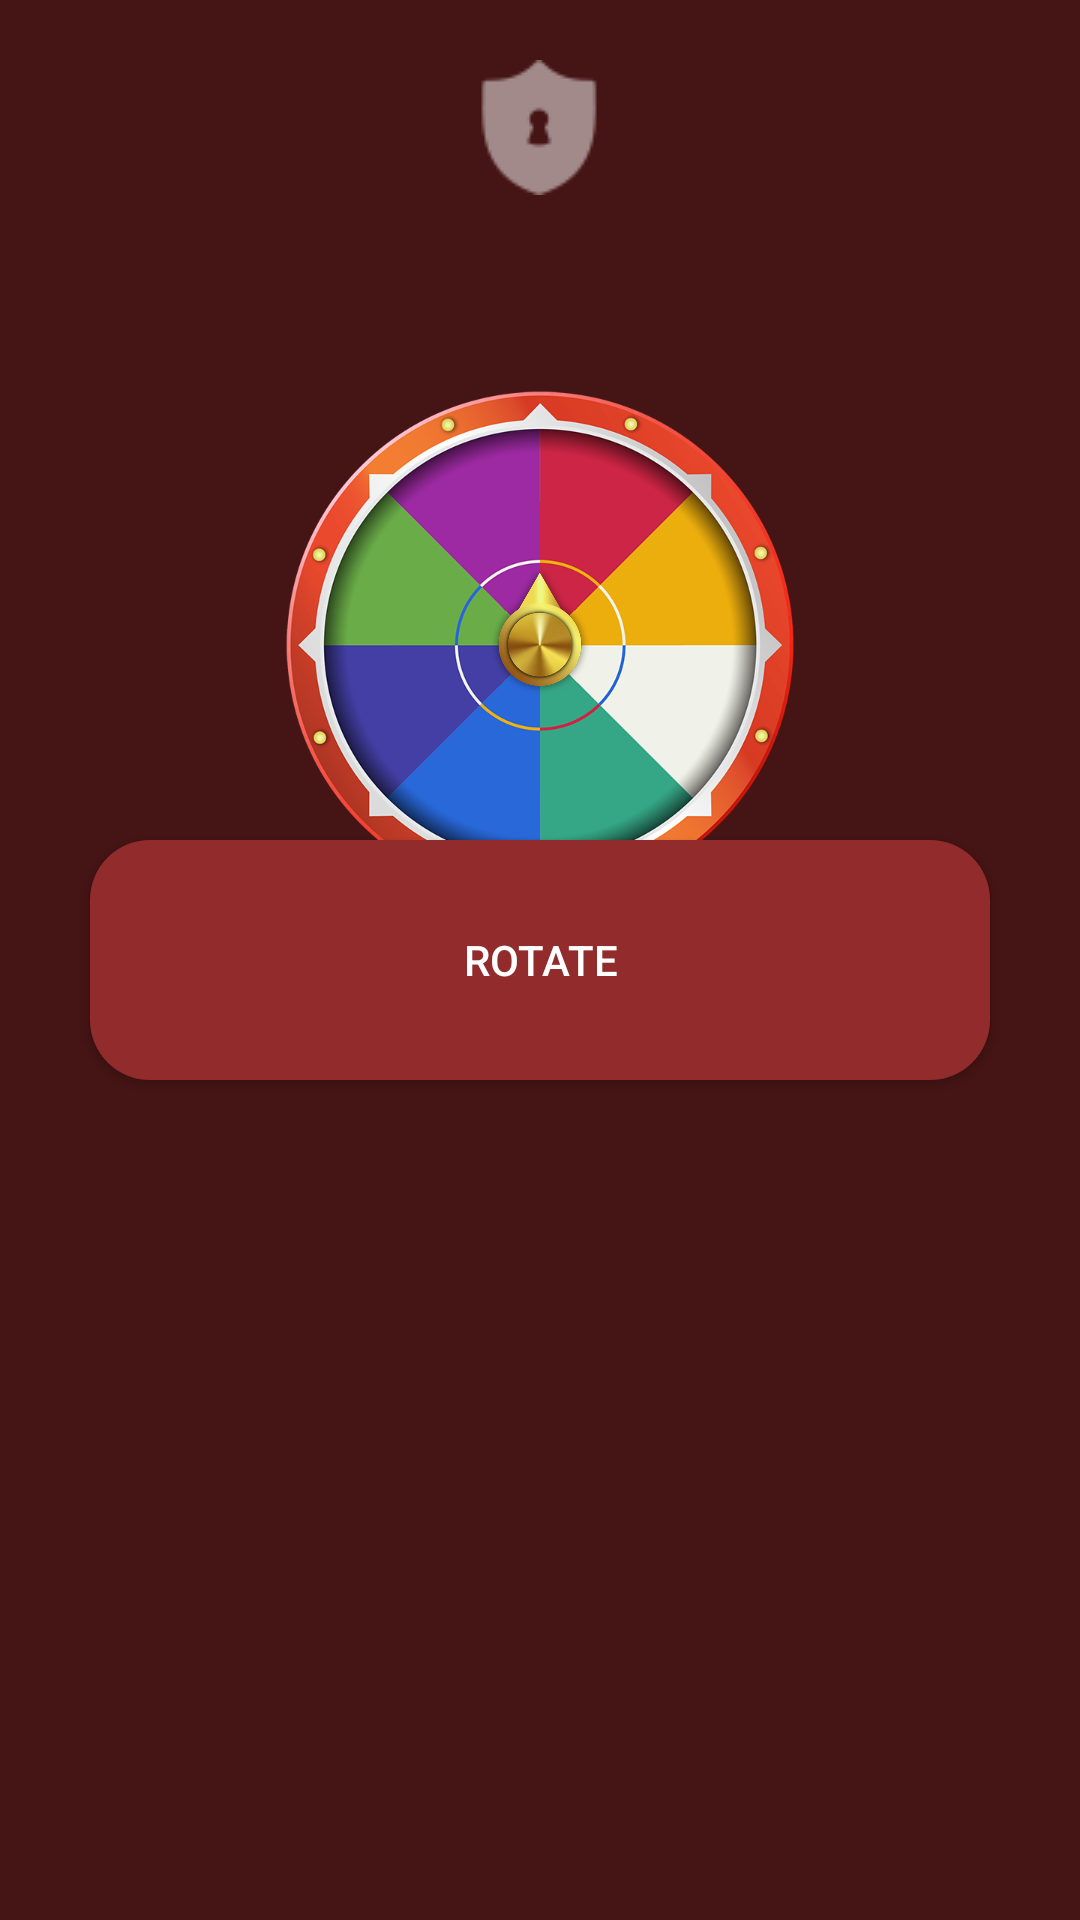

Icon bounding boxes for this 1080w x 1920h phone screenshot, format (x1, y1, x2, y2):
Privacy Policy: (481, 60, 597, 195)
